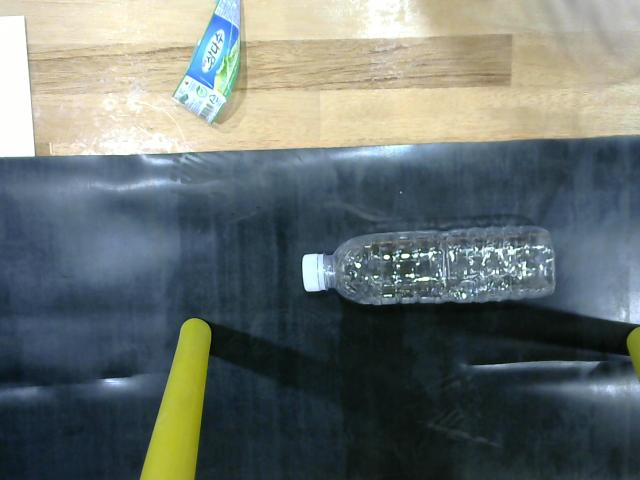bottle: (301, 222, 561, 310)
